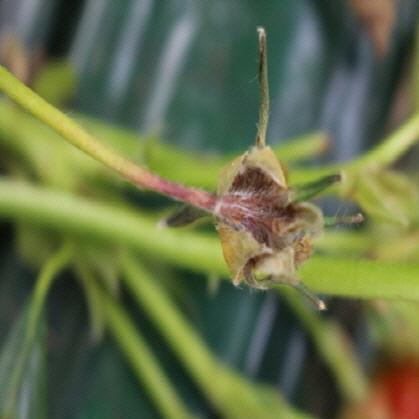Gray Mold: (160, 105, 366, 310)
